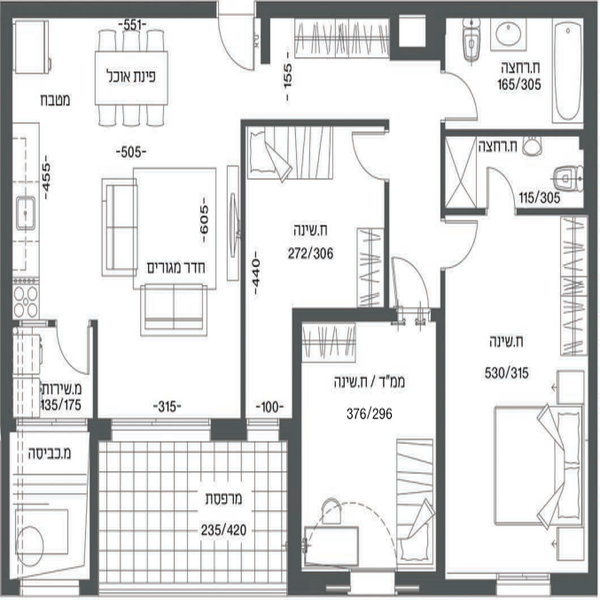door: (439, 214, 487, 274), (347, 131, 405, 180), (439, 64, 485, 124), (217, 11, 259, 74), (57, 320, 95, 380), (483, 164, 520, 216)
room: (291, 309, 442, 598), (240, 115, 395, 321), (428, 6, 600, 138), (256, 1, 397, 125), (442, 131, 597, 217)
wall: (258, 1, 600, 19), (1, 3, 13, 430), (587, 220, 598, 600), (3, 1, 219, 20), (292, 305, 303, 594), (436, 310, 446, 592), (585, 15, 596, 220), (1, 435, 13, 595), (89, 422, 100, 594), (242, 127, 247, 444), (293, 307, 397, 322), (240, 119, 390, 128), (293, 573, 349, 597), (438, 580, 499, 600), (554, 574, 597, 600), (384, 181, 392, 319), (441, 130, 585, 136), (91, 323, 99, 424), (396, 574, 436, 594), (516, 208, 594, 215), (441, 134, 445, 215)
window: (110, 419, 213, 433), (19, 418, 87, 434), (504, 573, 552, 587), (249, 414, 277, 433)
